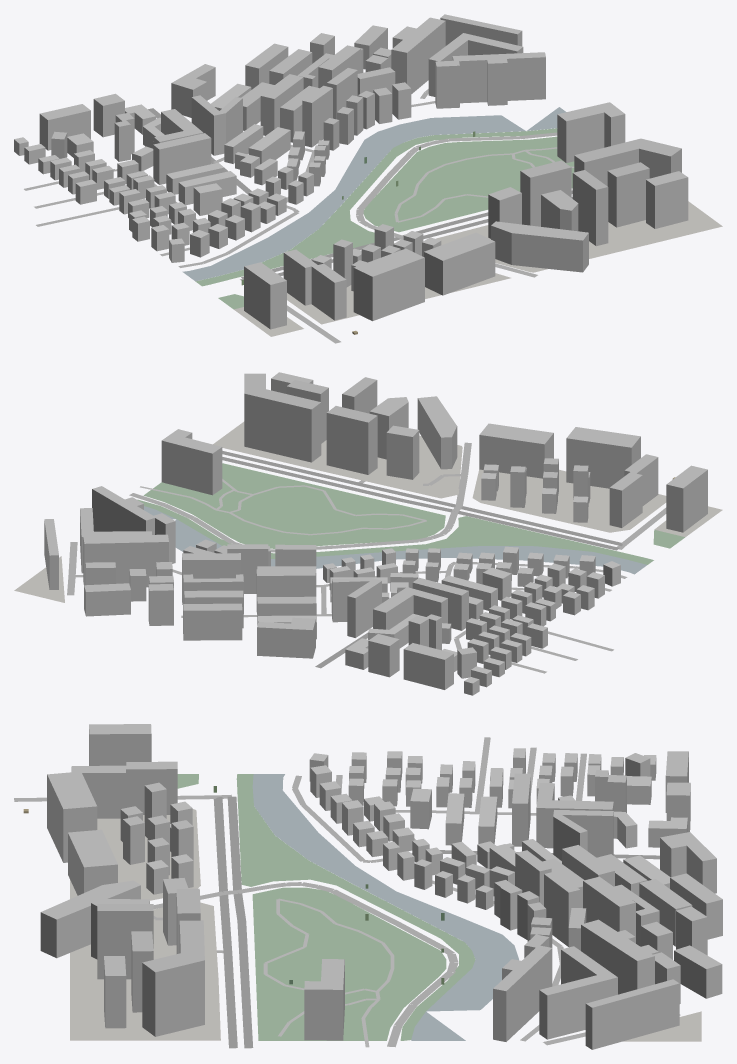
The picture shows the model from 3 angles, top to bottom: view 1: azimuth 30°, elevation 25°; view 2: azimuth 150°, elevation 25°; view 3: azimuth 270°, elevation 25°; orthographic projection. The views are drawn at different scales.
Size of the model in its own units: 585 by 60.6 by 561.
